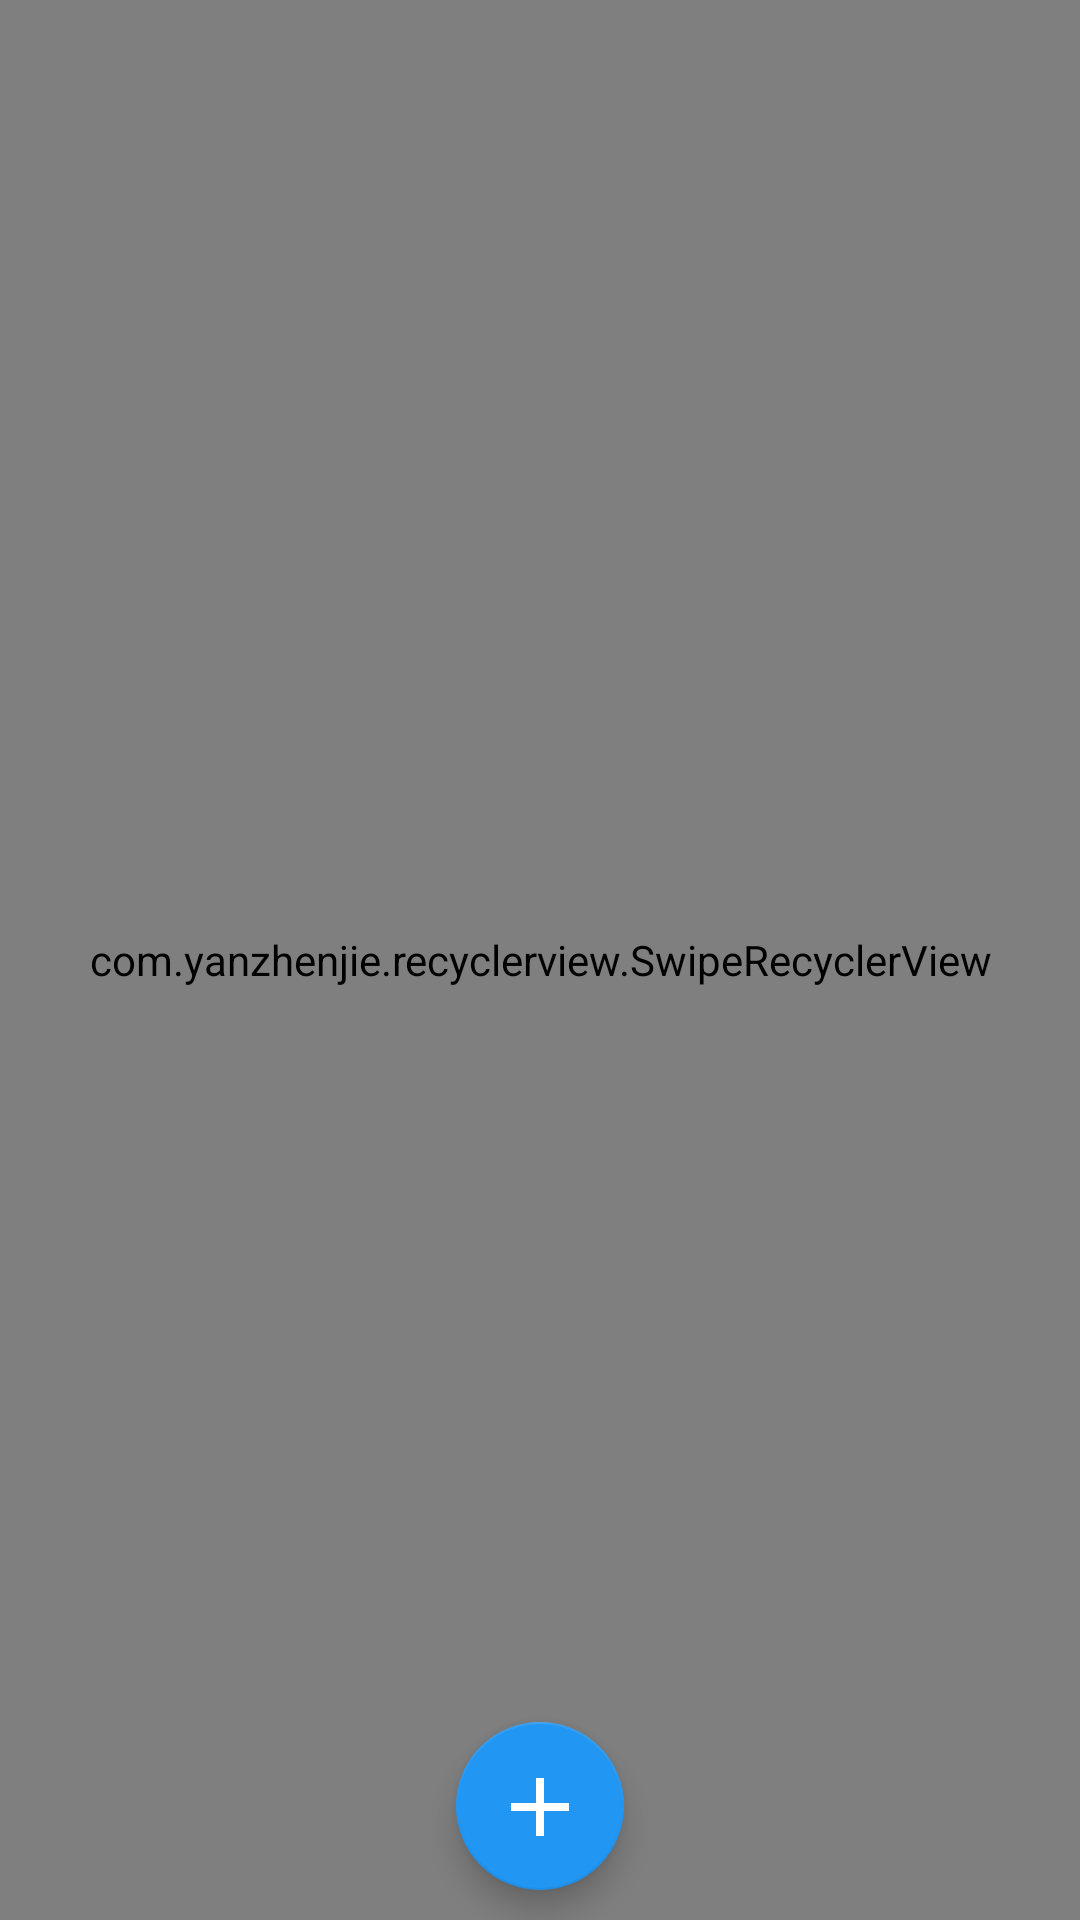

Locate icon controls on the screen. Image size 1080×1920, boxes as (x1, y1, x2, y2).
add: (456, 1722, 624, 1890)
